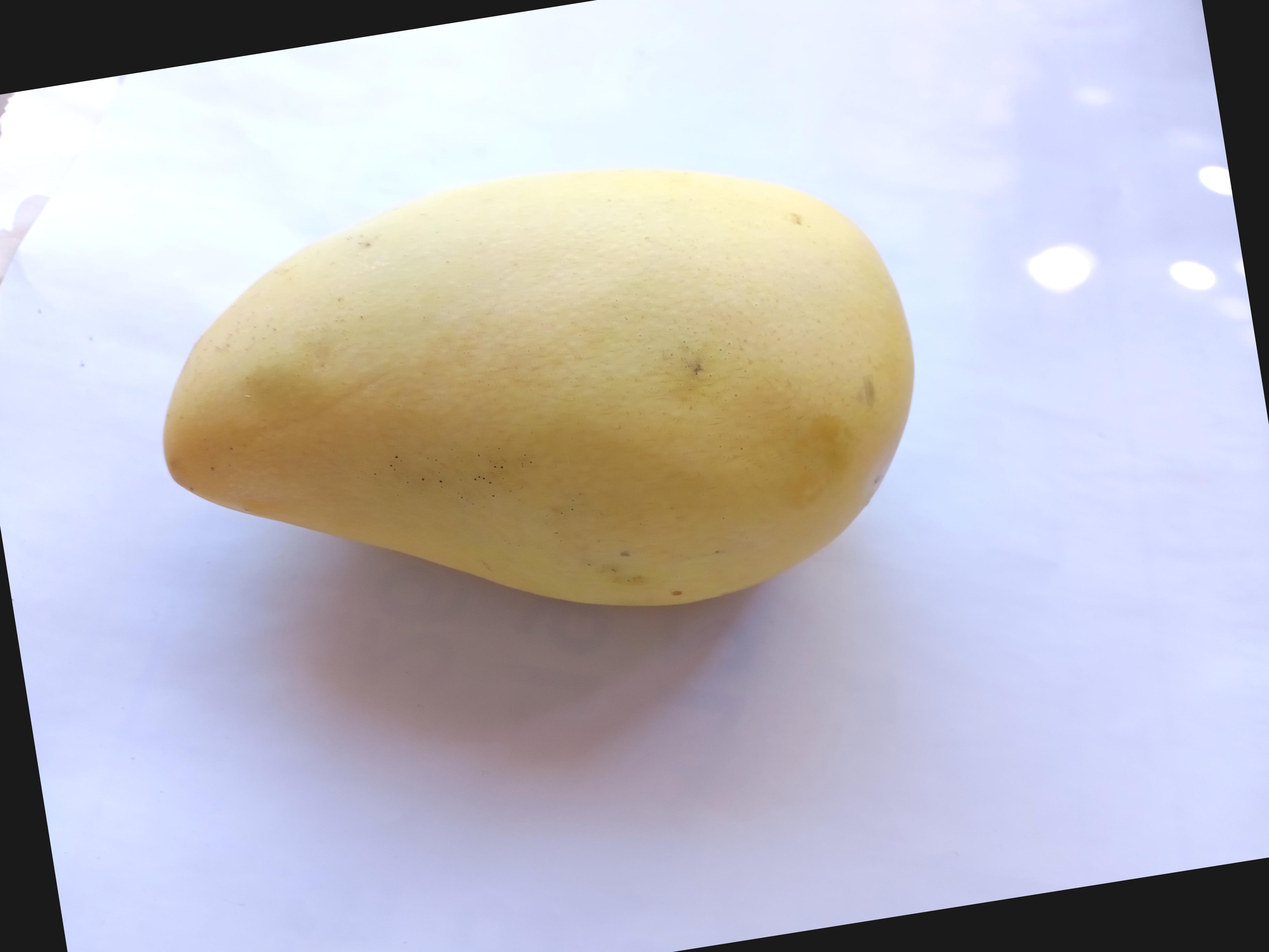Mango Ripe: (17, 227, 909, 853)
